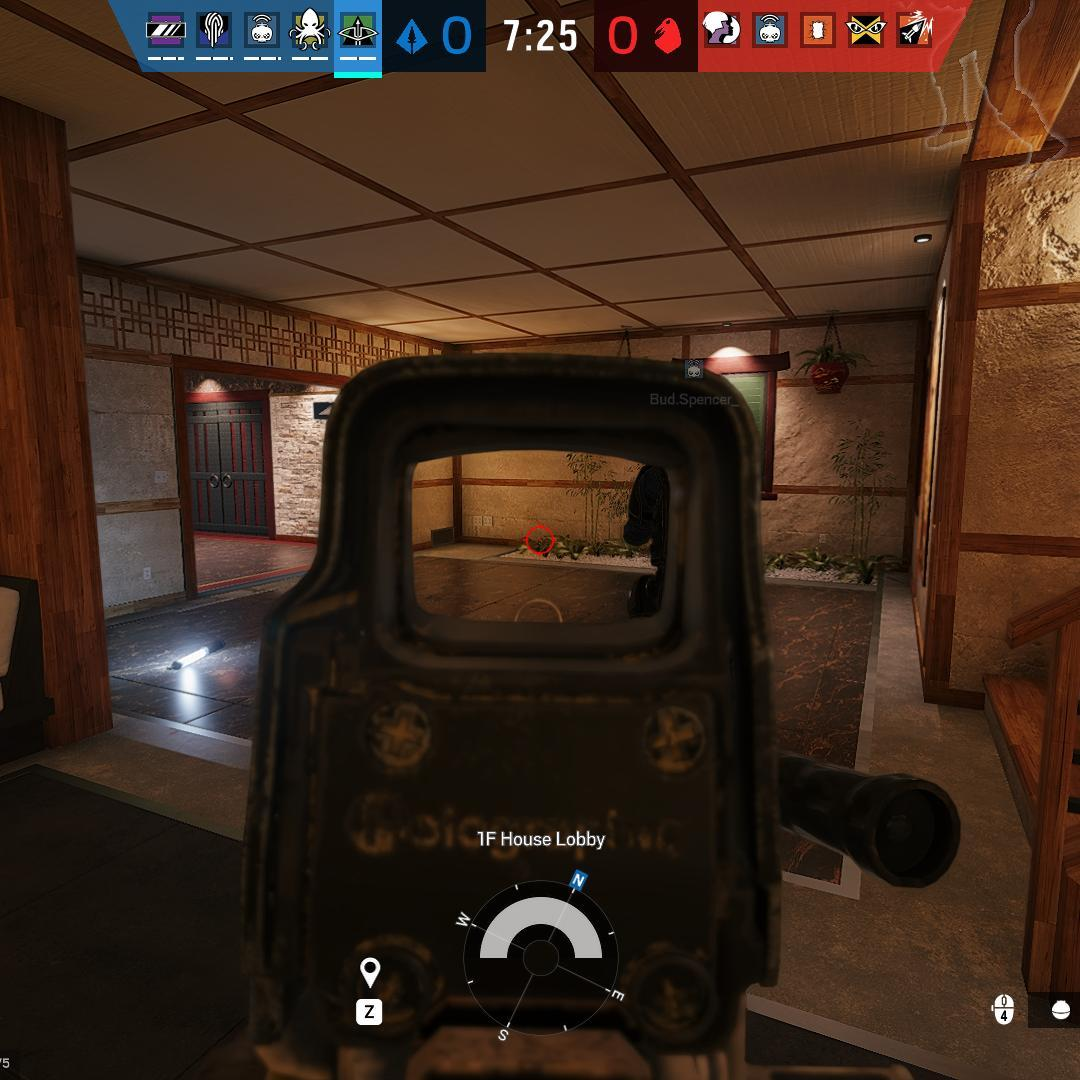Friend_label: (650, 357, 735, 408)
